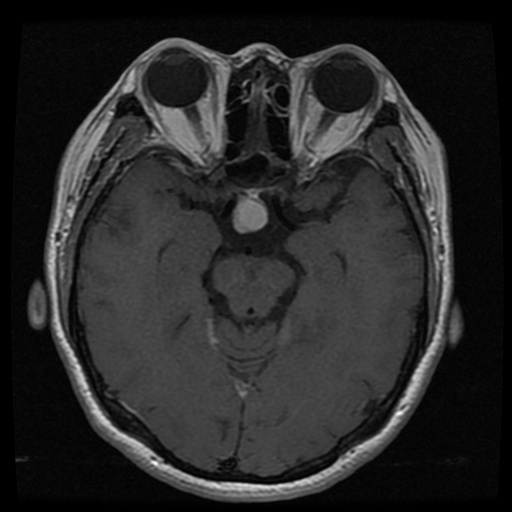pituitary: (234, 192, 267, 234)
